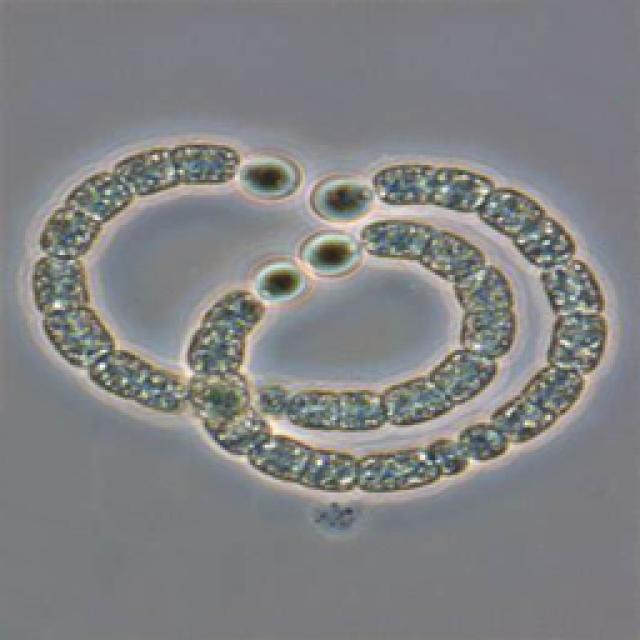Anabaena: (26, 128, 613, 510)
